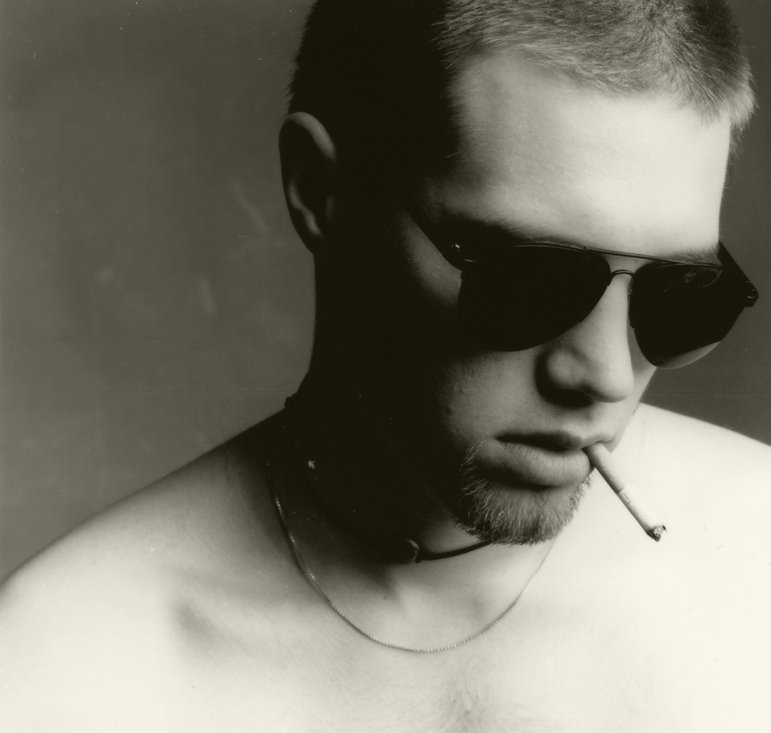cigarette: (582, 439, 668, 542)
